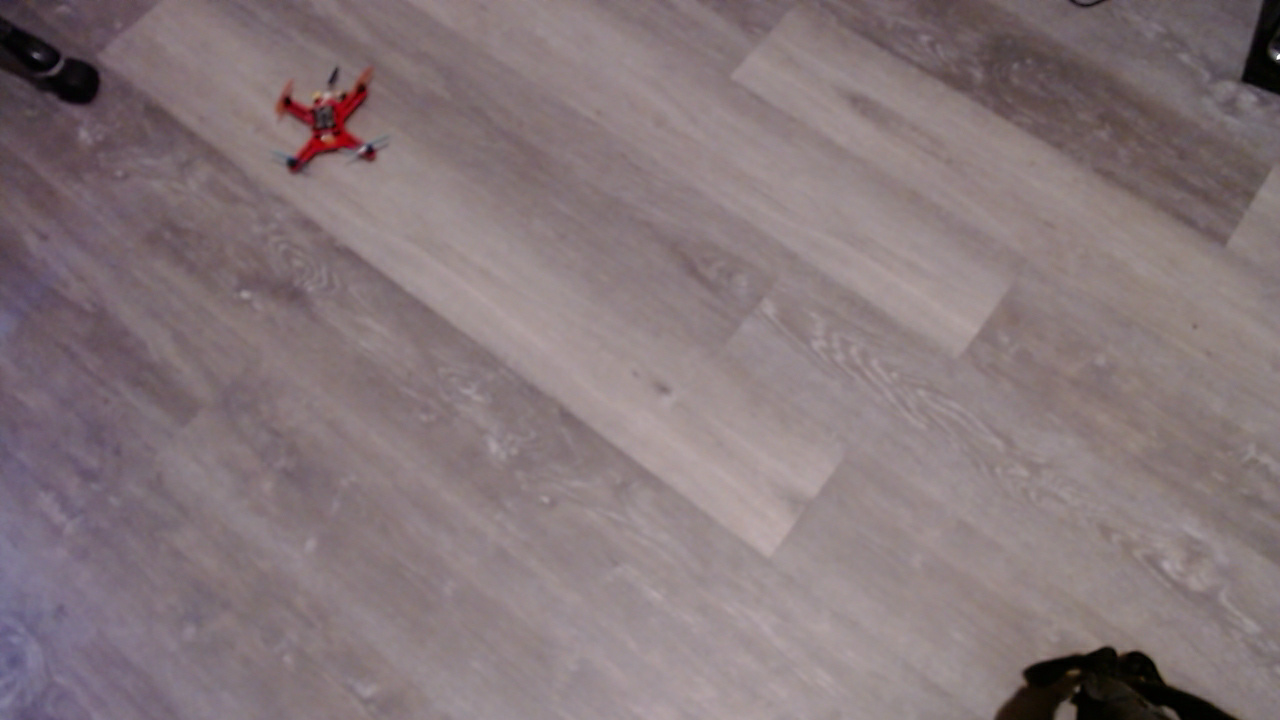crazyflie: (263, 75, 391, 184)
